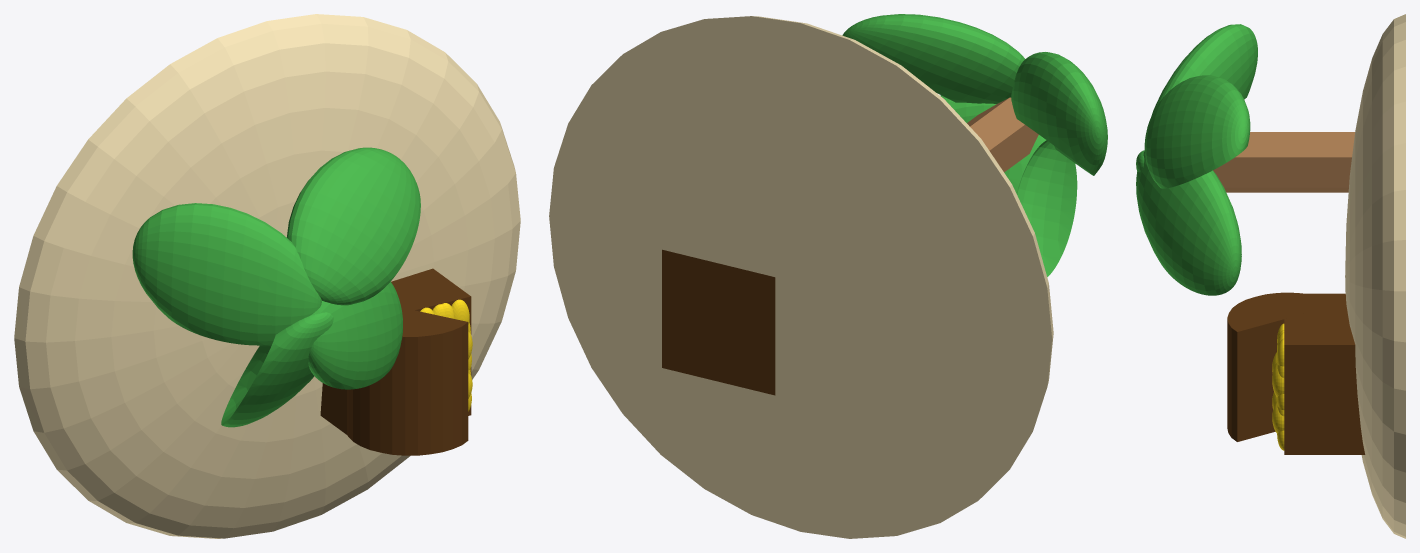
Rendered from tinker.obj.
3 views of the same model, side by side, from view 1: azimuth 30°, elevation 25°; view 2: azimuth 150°, elevation 25°; view 3: azimuth 270°, elevation 25° (orthographic). The views are drawn at different scales.
Visible parts, largest first — view 1: group_0_16311991, group_0_4634441, group_0_6306067, group_0_16768282; view 2: group_0_16311991, group_0_4634441, group_0_6306067, group_0_11107152; view 3: group_0_16311991, group_0_4634441, group_0_6306067, group_0_11107152, group_0_16768282.
Part boxes in pixels (x1=…): group_0_16311991: x1=14, y1=14, x2=520, y2=538; group_0_4634441: x1=132, y1=147, x2=420, y2=427; group_0_6306067: x1=320, y1=268, x2=471, y2=455; group_0_16768282: x1=420, y1=299, x2=472, y2=411; group_0_16311991: x1=549, y1=16, x2=1053, y2=538; group_0_4634441: x1=842, y1=14, x2=1107, y2=276; group_0_6306067: x1=662, y1=249, x2=775, y2=395; group_0_11107152: x1=967, y1=97, x2=1038, y2=172; group_0_16311991: x1=1345, y1=14, x2=1405, y2=538; group_0_4634441: x1=1136, y1=24, x2=1257, y2=295; group_0_6306067: x1=1227, y1=292, x2=1365, y2=454; group_0_11107152: x1=1213, y1=132, x2=1354, y2=192; group_0_16768282: x1=1272, y1=323, x2=1284, y2=450.
Size of the model in its own units: 89 by 86 by 44.4.
